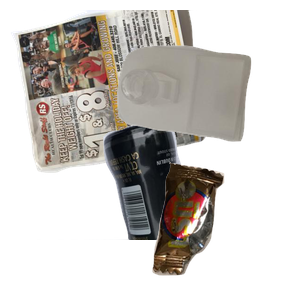glass: (37, 120, 231, 300)
paper: (10, 10, 210, 175)
plastic: (115, 43, 300, 177)
trash: (150, 160, 300, 300)
